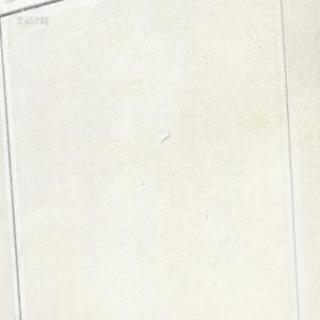Wrenchtrack_idkeyframe: (160, 130, 170, 142)
